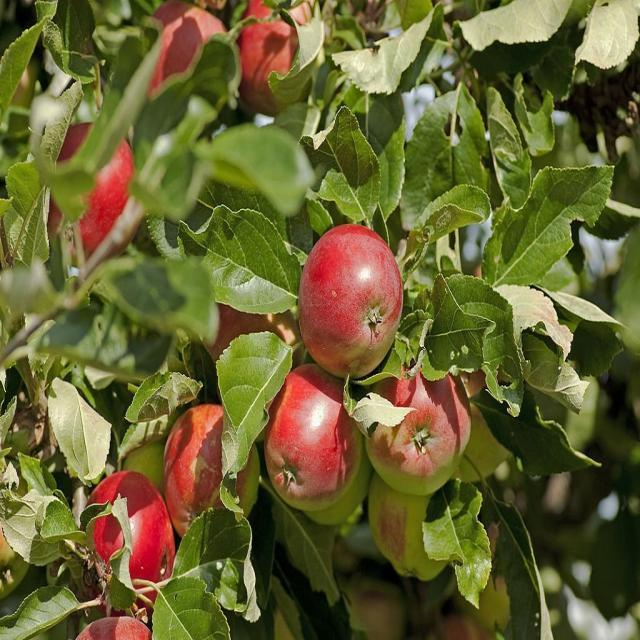Red Apple: (298, 223, 404, 379), (40, 100, 138, 253), (369, 354, 472, 494), (83, 468, 186, 595), (268, 370, 365, 497), (154, 400, 261, 508), (147, 4, 232, 109), (243, 7, 316, 110), (213, 303, 300, 365), (80, 613, 154, 640)
